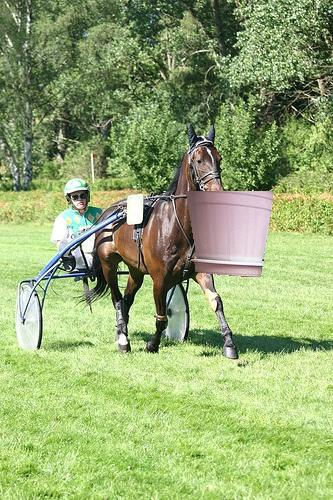tampered: (187, 192, 273, 277)
